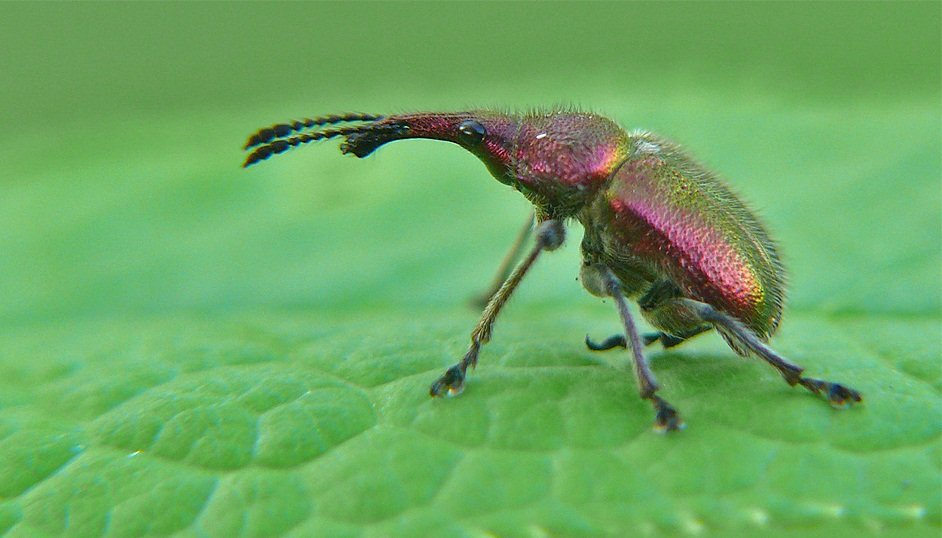dolgonosik: (243, 104, 871, 437)
